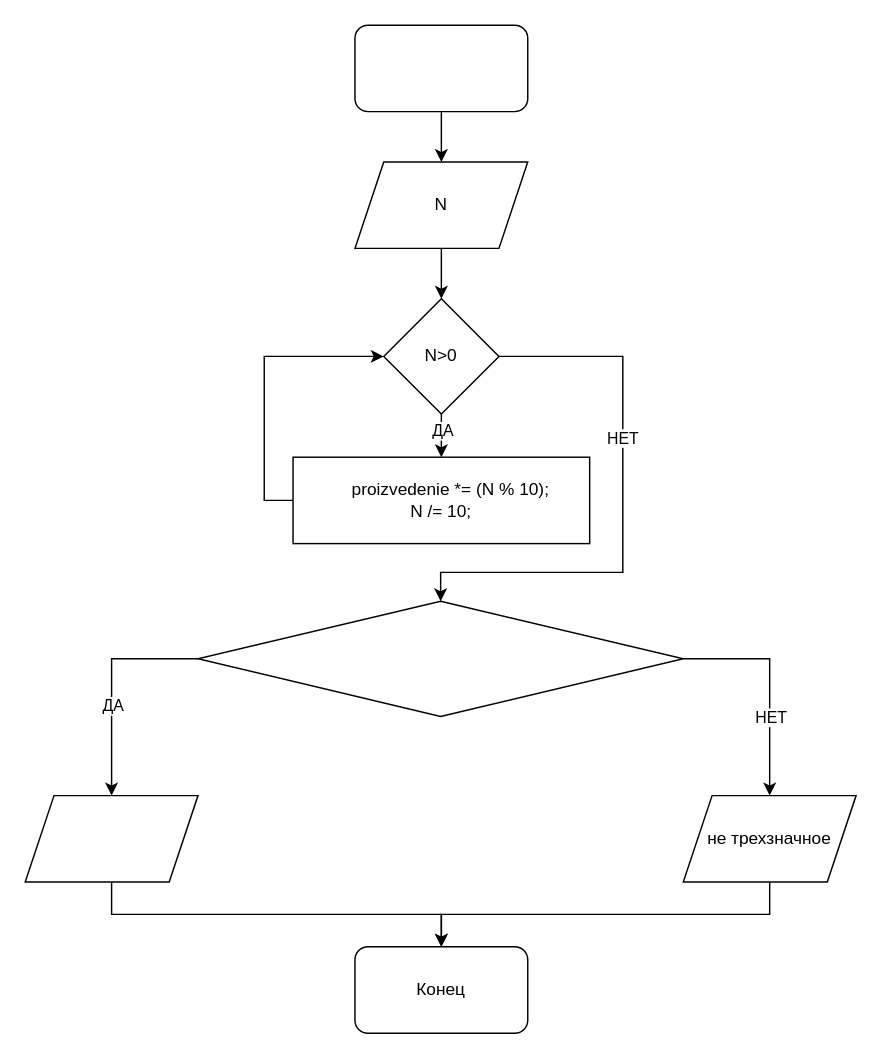
This 881x1058 diagram has some shape labels left out. The centre of each missing label's shape, as x and y in pixels:
"proizvedenie>=100 && proizvedenie<1000" belongs at (x=440, y=658).
"Начало" belongs at (x=441, y=68).
"трехзначное" belongs at (x=111, y=838).
